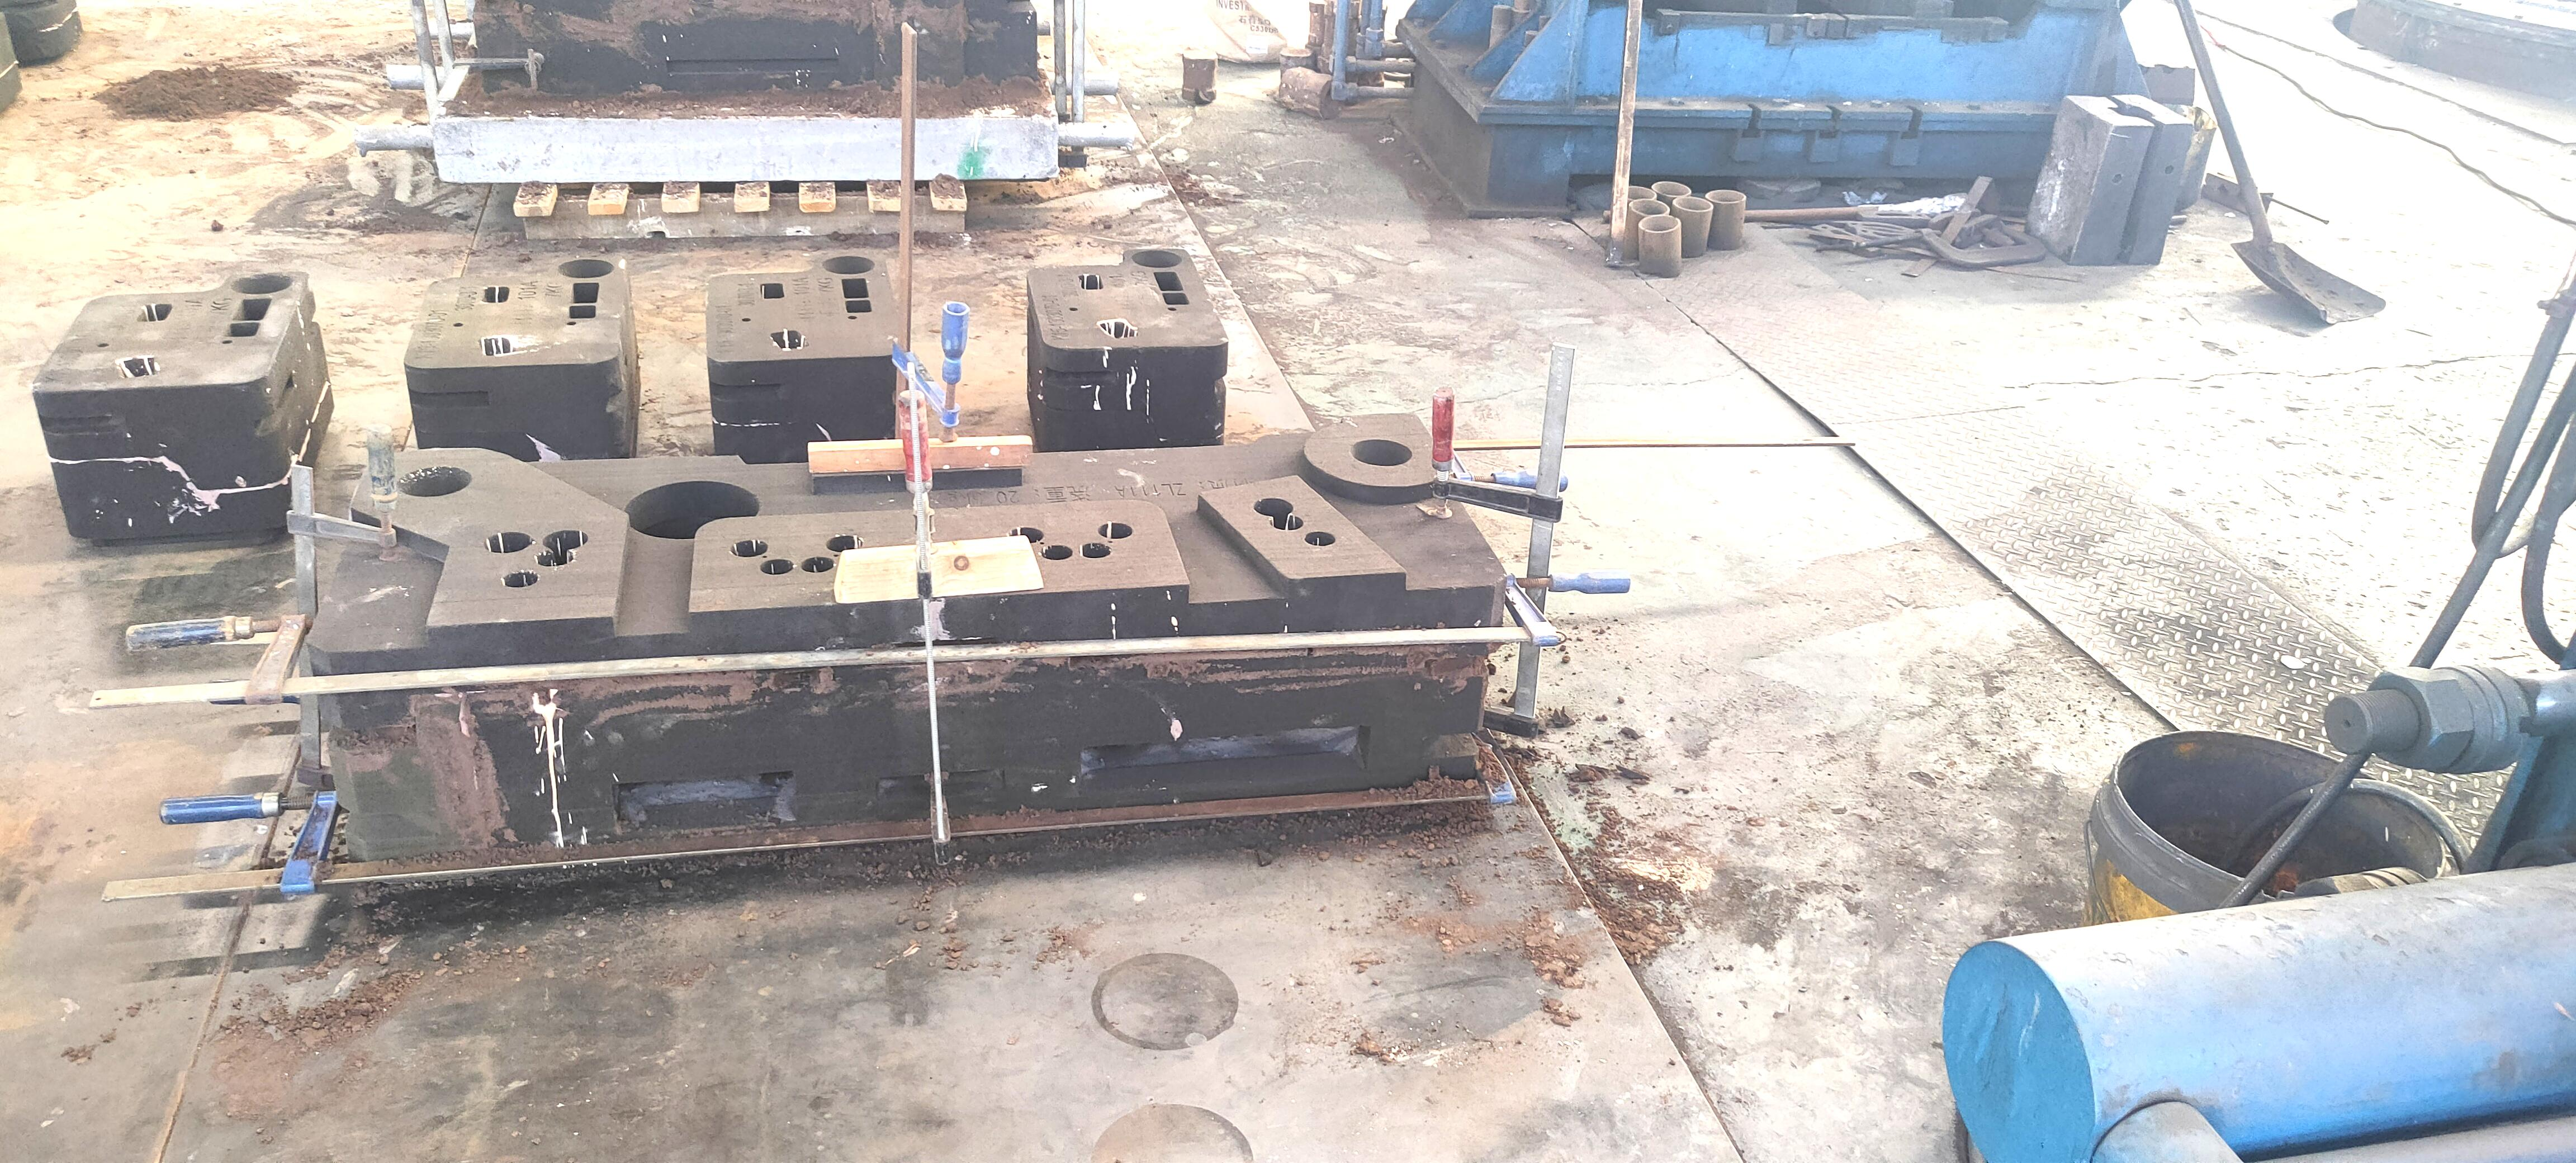pouring hole: (396, 467, 473, 498), (1350, 439, 1411, 467), (228, 273, 294, 296), (557, 260, 616, 279), (821, 256, 876, 274), (1130, 250, 1185, 268), (1636, 214, 1681, 235), (1628, 199, 1671, 217), (1672, 195, 1715, 214), (1704, 189, 1748, 204), (1620, 186, 1658, 202), (1653, 181, 1690, 197)
